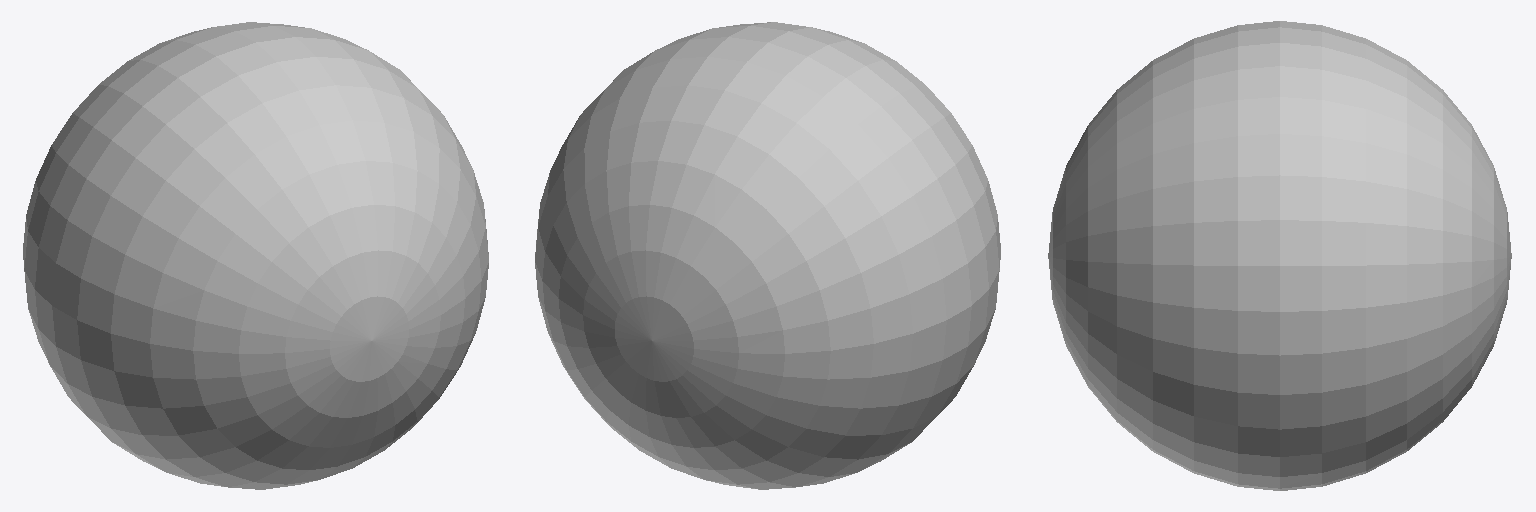
Rendered from EXPORTMODIF01.obj.
3 renders of one model, left to right at view 1: azimuth 30°, elevation 25°; view 2: azimuth 150°, elevation 25°; view 3: azimuth 270°, elevation 25°, orthographic.
Parts seen in each view (by area): view 1: Sphere009; view 2: Sphere009; view 3: Sphere009.
Part boxes in pixels (x1,y1,x2,y2): Sphere009: (23,22,488,489); Sphere009: (535,22,1000,489); Sphere009: (1048,21,1511,490).
Size of the model in its own units: 2.35 by 2.35 by 2.31.